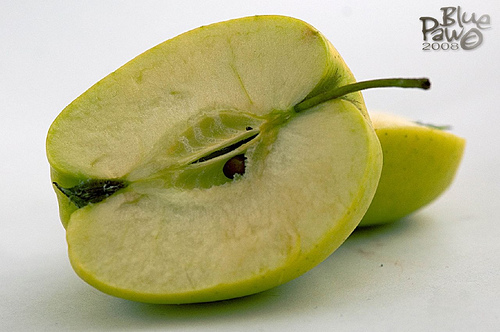apple: (44, 13, 433, 306)
